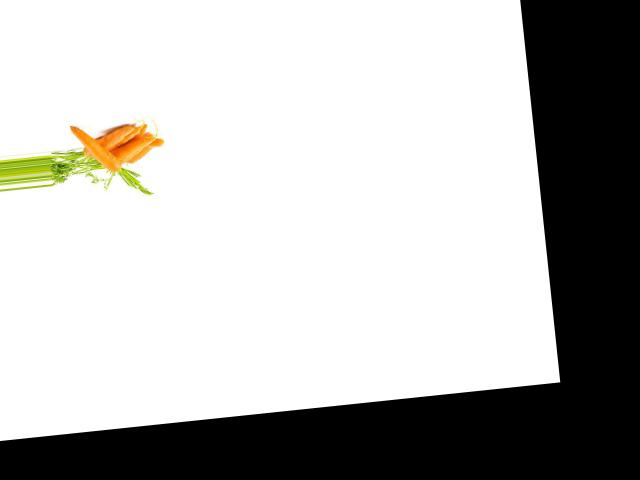carrot: (78, 124, 146, 158)
